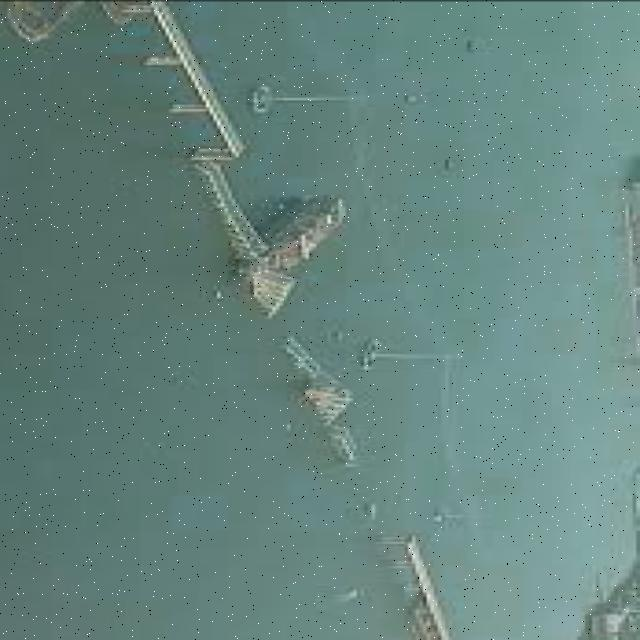bridge collapse: (79, 0, 591, 640)
